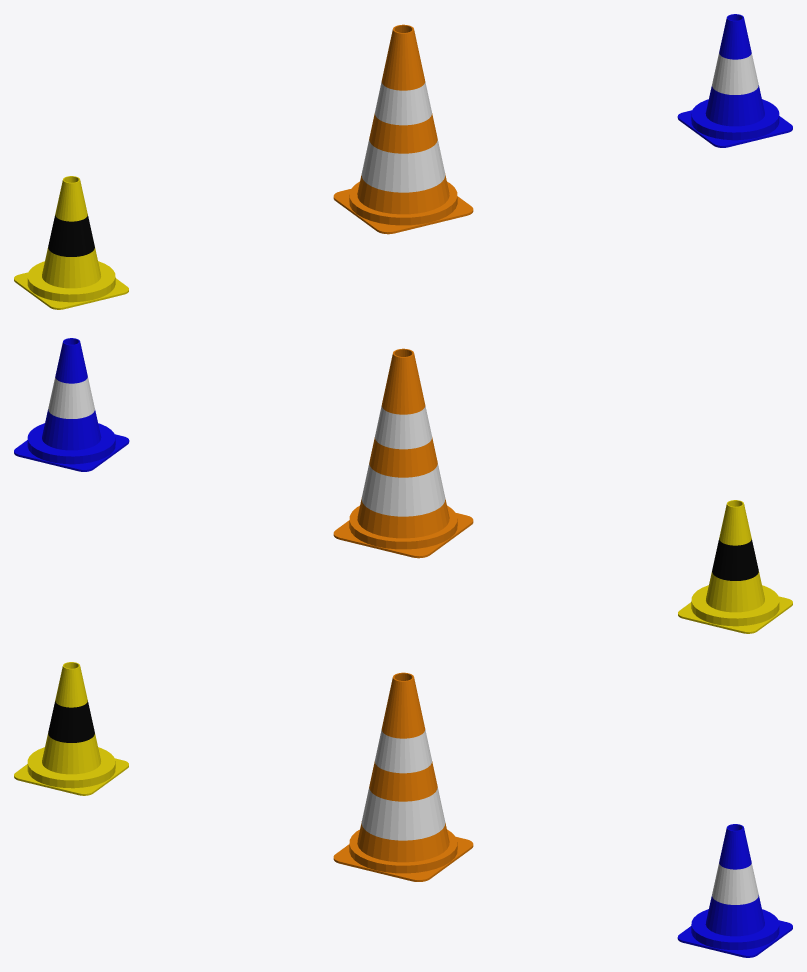
File: Hütchen.fbx
The picture shows the model from 3 angles, top to bottom: view 1: azimuth 30°, elevation 25°; view 2: azimuth 150°, elevation 25°; view 3: azimuth 330°, elevation 25°; orthographic projection.
Parts seen in each view (by area): view 1: OrangeConeExport, BlueConeExport, YellowConeExport; view 2: OrangeConeExport, BlueConeExport, YellowConeExport; view 3: OrangeConeExport, BlueConeExport, YellowConeExport.
Boxes of the visible parts, x1=… form: OrangeConeExport: x1=333, y1=24, x2=473, y2=234; BlueConeExport: x1=677, y1=14, x2=792, y2=147; YellowConeExport: x1=14, y1=176, x2=128, y2=309; OrangeConeExport: x1=333, y1=348, x2=473, y2=558; BlueConeExport: x1=14, y1=338, x2=129, y2=471; YellowConeExport: x1=678, y1=500, x2=792, y2=633; OrangeConeExport: x1=333, y1=672, x2=473, y2=881; BlueConeExport: x1=677, y1=824, x2=792, y2=957; YellowConeExport: x1=14, y1=662, x2=128, y2=795.
Size of the model in its own units: 223 by 50.5 by 28.51.
